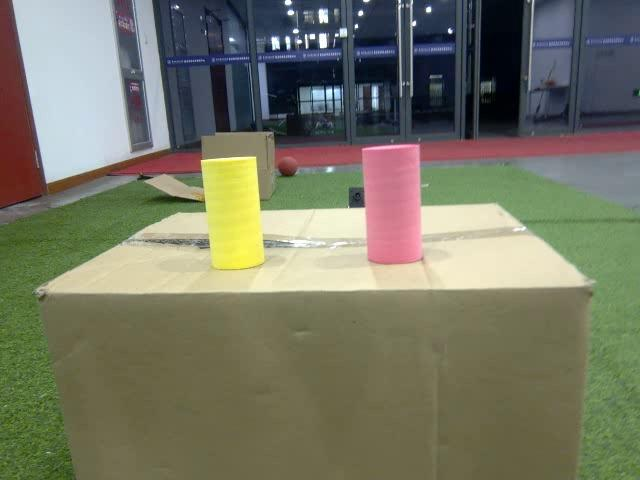red_ball: (279, 156, 299, 176)
red_cylinder: (360, 141, 425, 264)
yellow_cylinder: (198, 154, 268, 270)
